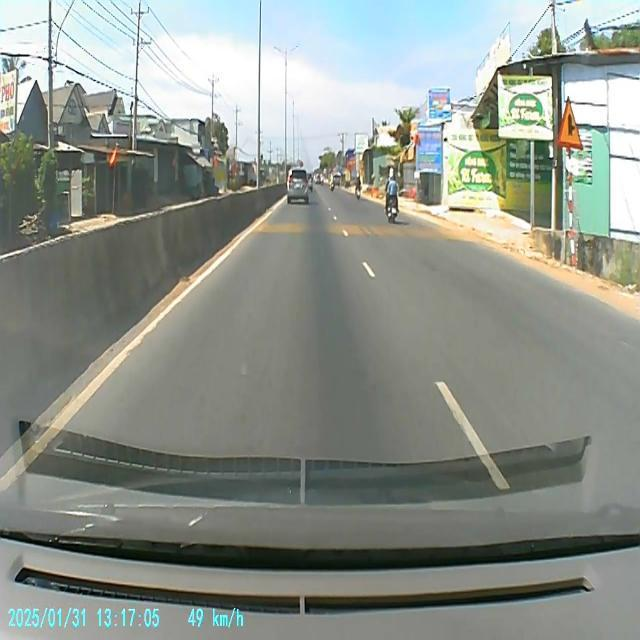207-giao-nhau-voi-duong-khong-uu-tien: (556, 99, 584, 150)
